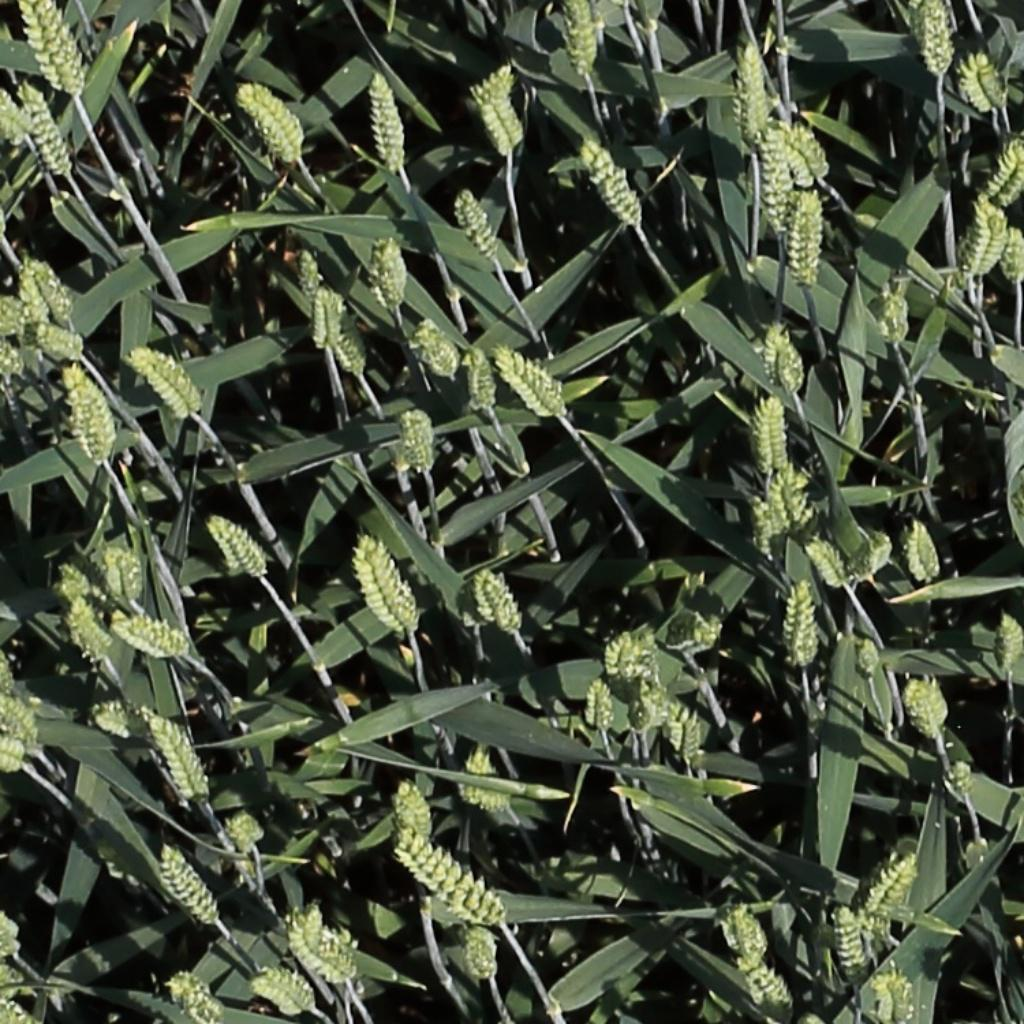0-0: (394, 832, 503, 927), (342, 535, 420, 637), (17, 0, 92, 101), (141, 704, 211, 809), (291, 900, 372, 986), (578, 132, 647, 229), (735, 32, 783, 153), (21, 78, 77, 181), (159, 843, 222, 933), (236, 80, 304, 163), (128, 344, 200, 419), (494, 345, 567, 416), (61, 364, 111, 466), (751, 393, 801, 492), (733, 944, 798, 1017), (322, 286, 374, 376), (206, 512, 271, 582), (864, 850, 924, 925), (16, 254, 74, 329), (776, 578, 822, 672), (453, 181, 505, 264), (453, 746, 514, 816), (718, 903, 774, 974), (251, 965, 323, 1020), (473, 565, 527, 638), (52, 562, 120, 619), (912, 1, 955, 91), (67, 592, 117, 667), (370, 68, 404, 176), (961, 191, 1002, 279), (165, 968, 229, 1024), (763, 121, 793, 237), (778, 121, 832, 185), (765, 313, 807, 395), (902, 671, 950, 741), (978, 136, 1024, 208), (788, 189, 821, 289), (665, 693, 712, 763), (835, 901, 871, 992), (415, 315, 462, 383), (567, 1, 611, 73), (666, 606, 728, 657), (603, 627, 659, 683), (625, 676, 679, 734), (965, 47, 1008, 118), (395, 775, 435, 850), (870, 959, 915, 1024), (216, 802, 269, 857), (847, 529, 897, 587), (113, 618, 188, 656), (772, 460, 809, 536), (805, 535, 853, 593), (375, 229, 408, 312), (102, 540, 141, 610), (907, 514, 943, 589), (402, 402, 436, 479), (460, 925, 503, 985), (749, 488, 780, 566), (0, 690, 40, 750), (466, 339, 496, 416), (83, 698, 138, 740), (995, 604, 1022, 678), (883, 279, 910, 350), (37, 327, 92, 361), (294, 241, 322, 305), (311, 281, 335, 354), (588, 673, 614, 740), (992, 157, 1024, 211), (0, 86, 28, 147), (1000, 219, 1024, 289), (0, 989, 47, 1024), (856, 632, 887, 684), (948, 756, 980, 806), (0, 343, 27, 391), (0, 733, 27, 778), (0, 296, 27, 340), (0, 907, 18, 965)
